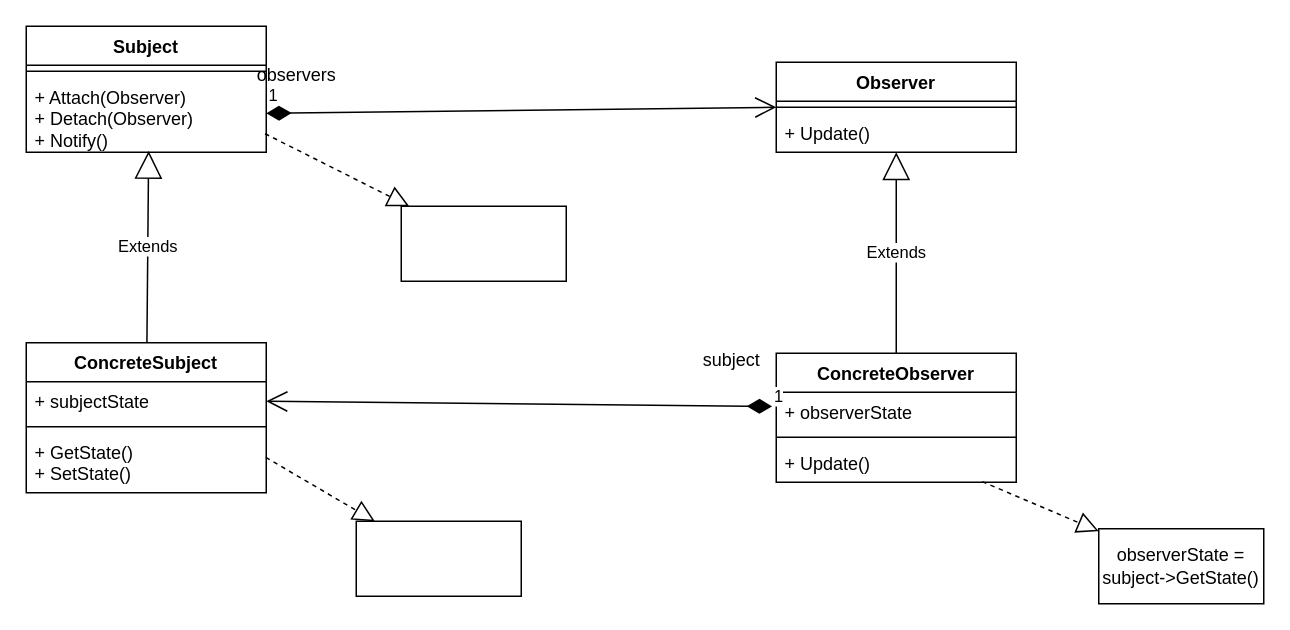
Some shapes in this 1290 by 630 pixel diagram are drawn without their labels. The centre of each missing label's shape, as x and y in pixels:
"for all o in observers{ o->Update() }" belongs at (x=483, y=243).
"return subjectState" belongs at (x=438, y=558).
